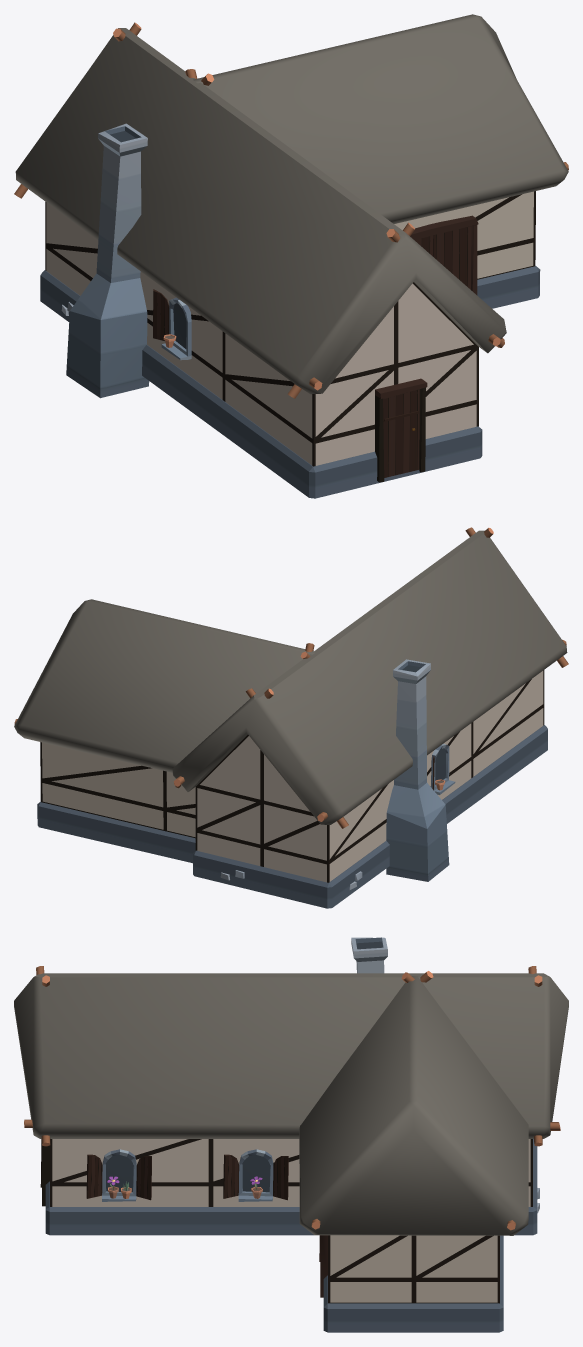
File: scene_o56F3H2NTg.glb
3 renders of one model, top to bottom at view 1: azimuth 30°, elevation 25°; view 2: azimuth 150°, elevation 25°; view 3: azimuth 270°, elevation 25°, orthographic. The views are drawn at different scales.
Parts seen in each view (by area): view 1: Scene.1951; view 2: Scene.1951; view 3: Scene.1951.
Boxes of the visible parts, bbox=[...] form: Scene.1951: bbox=[14, 14, 568, 498]; Scene.1951: bbox=[14, 527, 568, 908]; Scene.1951: bbox=[14, 937, 568, 1332].
Bounding box in the file's own units: 12.48 × 7.06 × 14.73.
Materials: 2 (2 with a texture image).
